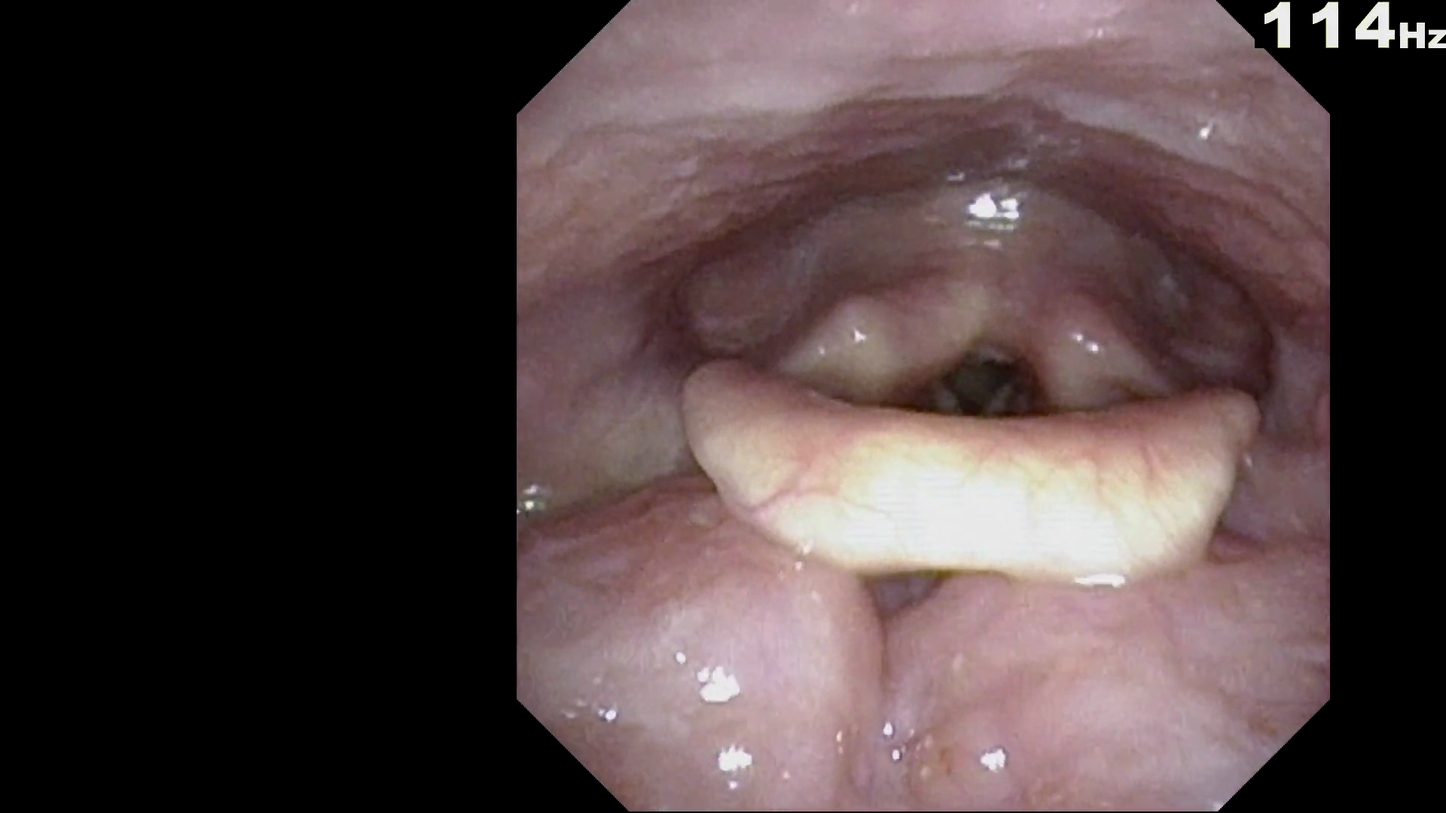epiglottis: (672, 340, 1274, 602)
trachea: (911, 306, 1058, 460)
